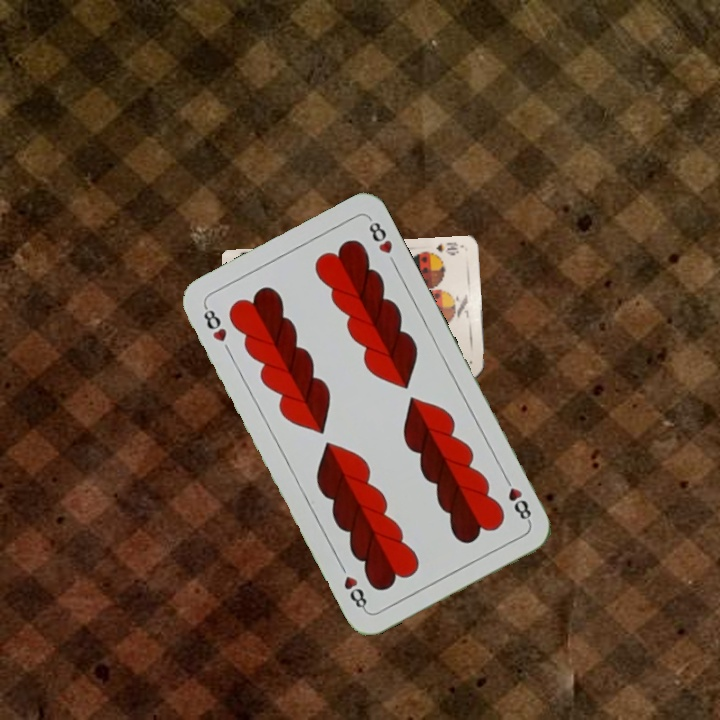H8: (499, 471, 534, 526), (199, 302, 230, 345)
S10: (432, 238, 464, 258)
